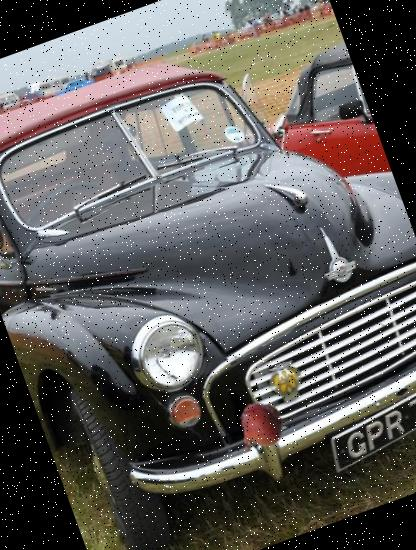Onion: (226, 394, 291, 459)
